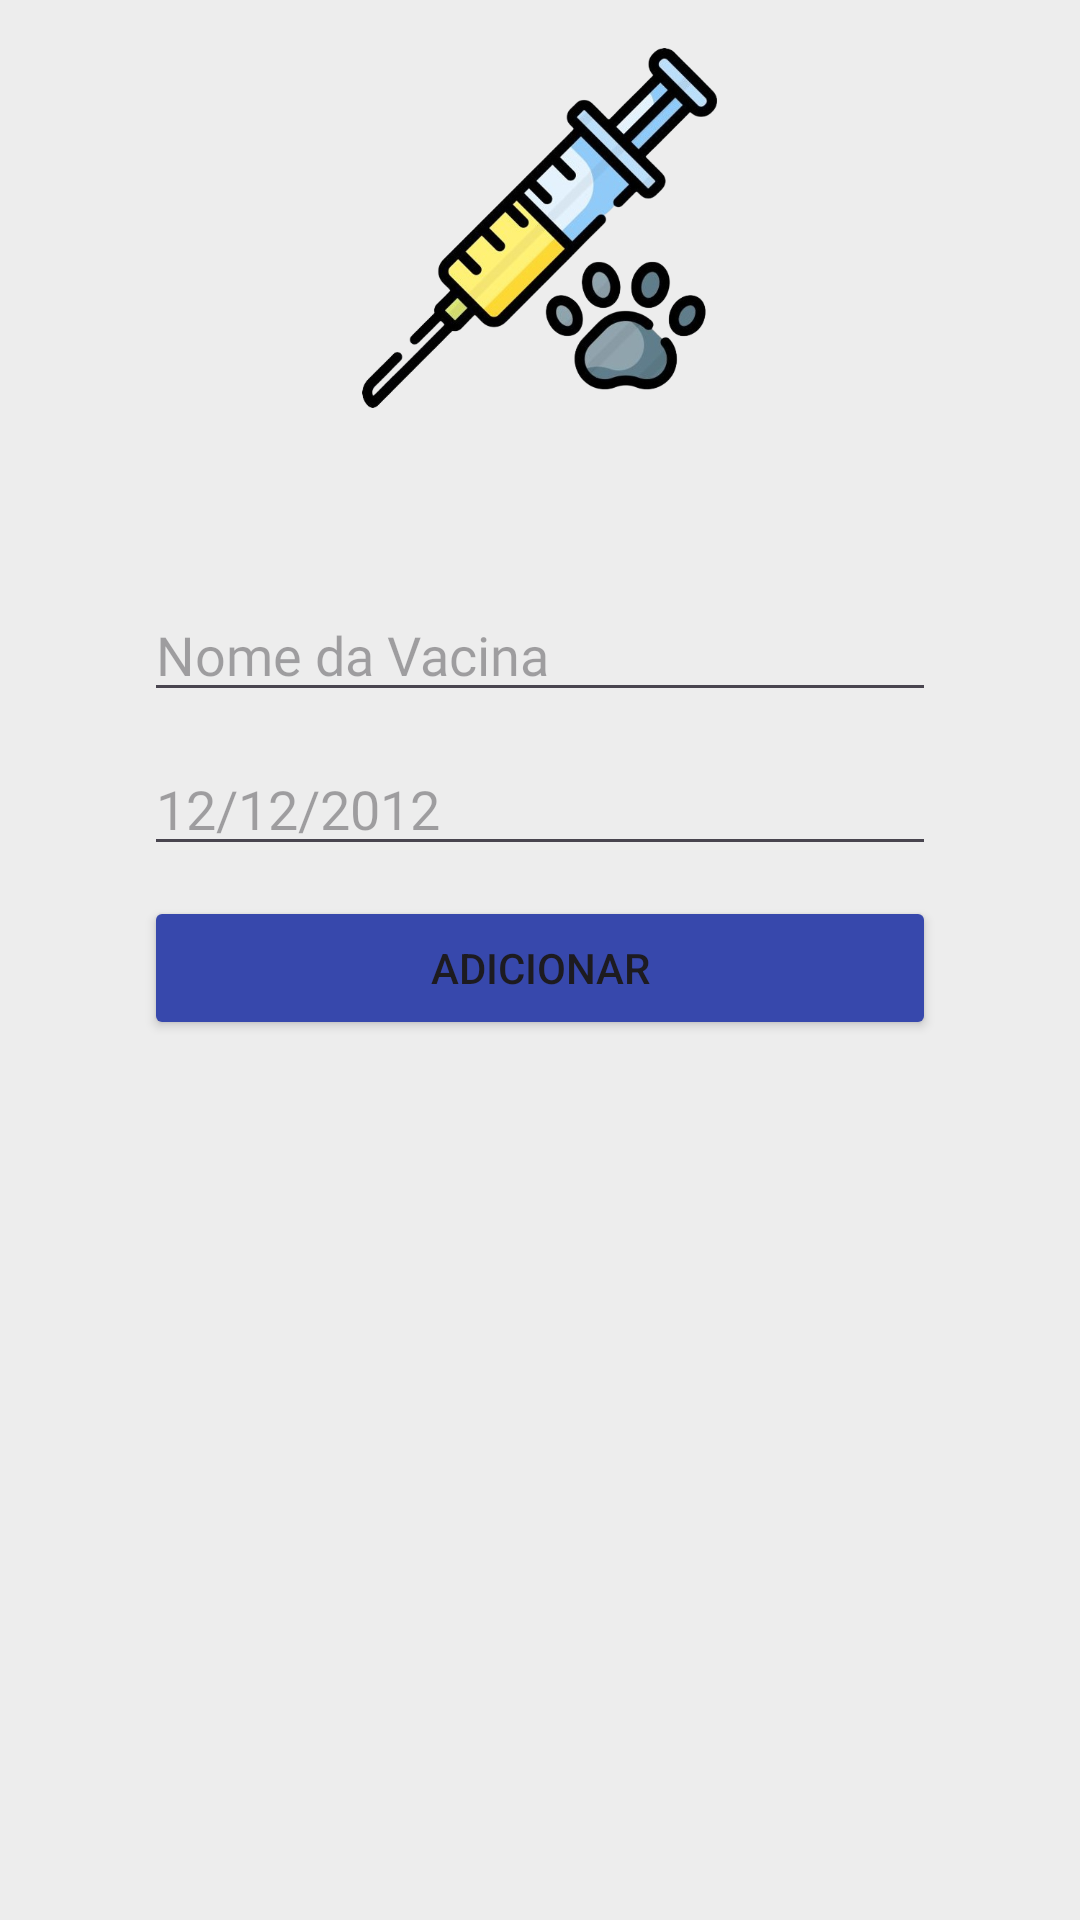

Named icons in this screenshot (1080*1920) and their bounding boxes, (x1, y1, x2, y2):
vacina: (362, 48, 717, 408)
